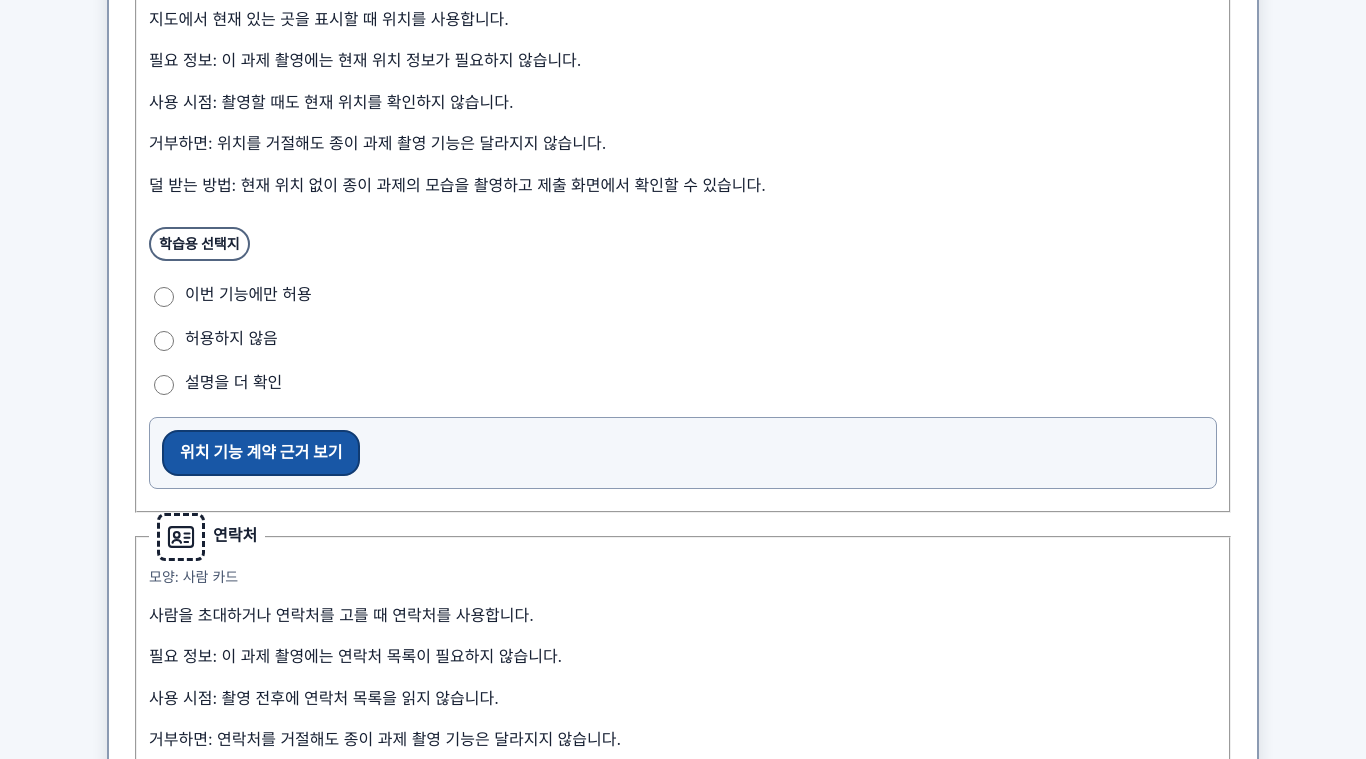
Scenario: PermissionReviewScreen › expands and focuses the correct contract evidence for more-info
(page scrolled)
Click the radio button labelled "설명을 더 확인".
click(164, 384)  # box [154, 374, 174, 394]
(page scrolled)
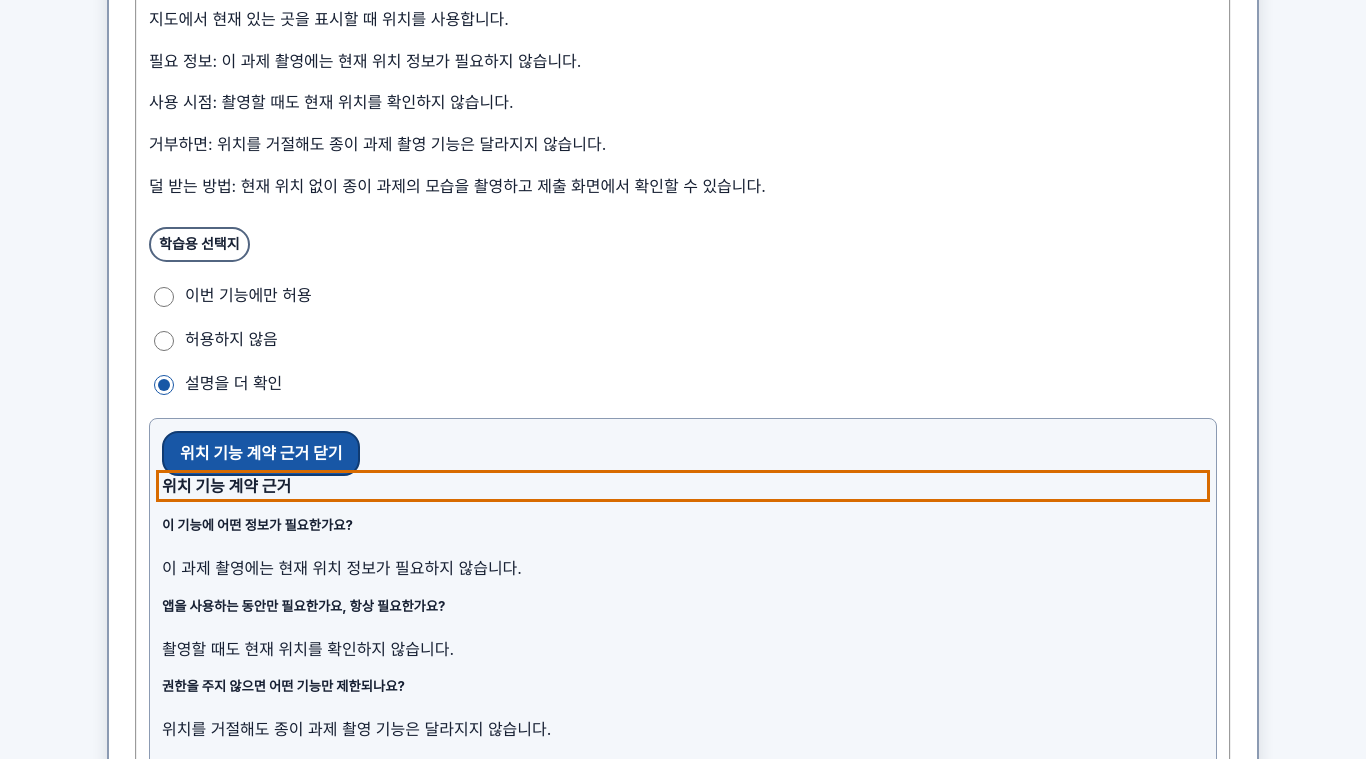
Result: the button "위치 기능 계약 근거 닫기" is expanded at [162, 431, 360, 476]
Result: the heading "이 기능에 어떤 정보가 필요한가요?" is shown at [162, 518, 353, 534]
